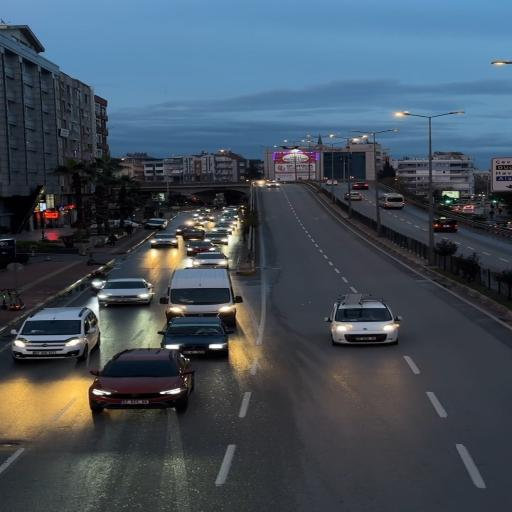car: (313, 298, 437, 340), (105, 344, 189, 404), (142, 315, 258, 358), (12, 310, 111, 360), (153, 268, 246, 316), (91, 274, 162, 302), (423, 210, 474, 239), (178, 232, 234, 253), (347, 182, 374, 207), (150, 233, 180, 251), (196, 209, 234, 223), (382, 194, 411, 210)
lights: (316, 122, 406, 226), (386, 105, 451, 203), (283, 125, 401, 160), (469, 45, 512, 88)
